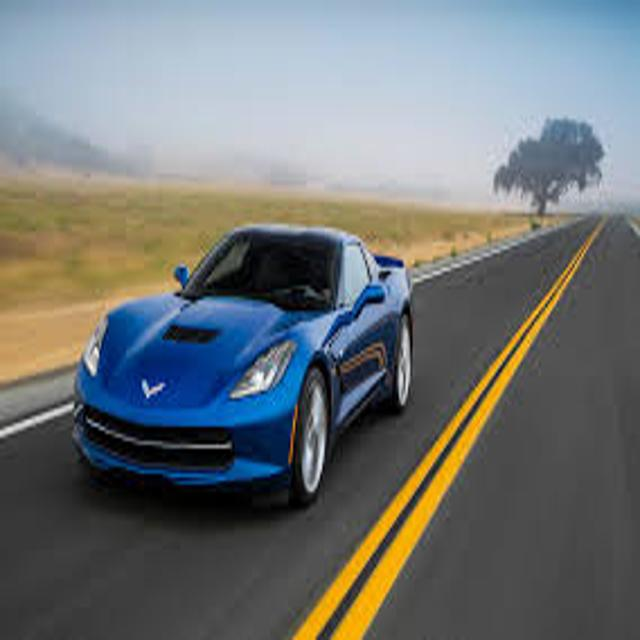car: (74, 223, 414, 505)
